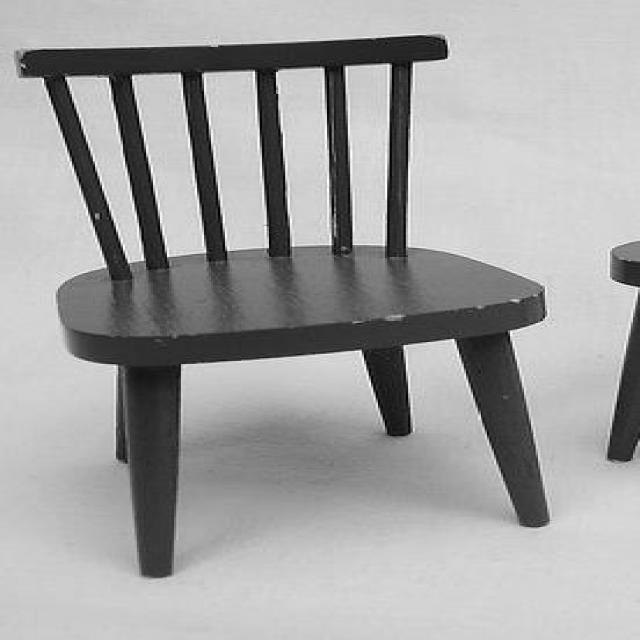chair: (3, 32, 550, 579)
